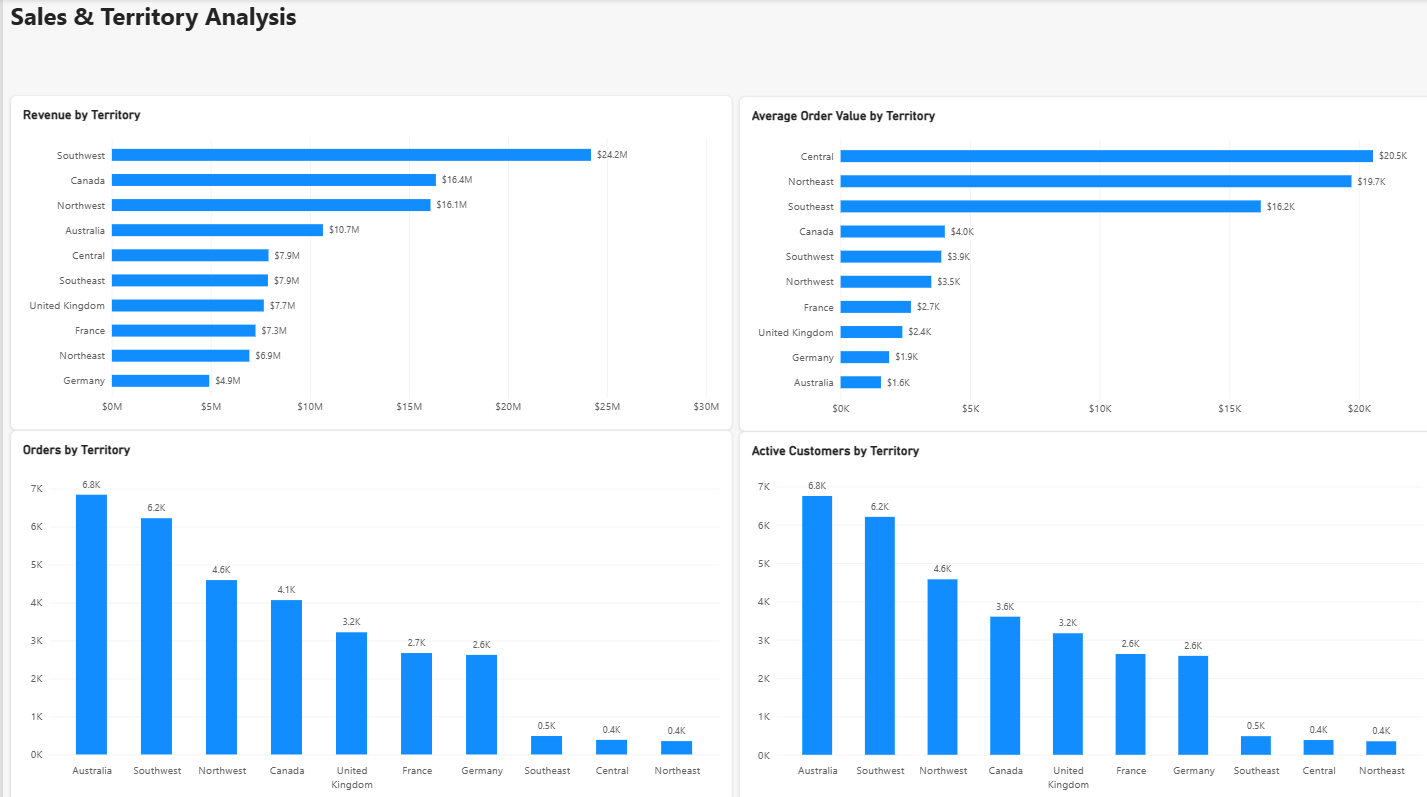

The dashboard page shown, as its layout file describes it:
{"tool":"powerbi","page":{"name":"Sales & Territory Analysis","canvas":[1920,1080],"ordinal":3},"visuals":[{"type":"textbox","box":[10.3,0,502.2,94.7],"z":0},{"type":"clusteredBarChart","title":"Revenue by Territory","fields":{"Category":["TerritoryPerformance.territory_name"],"Y":["Sum(TerritoryPerformance.total_revenue)"]},"box":[10.3,129.7,967.4,448.7],"z":1000},{"type":"clusteredColumnChart","title":"Orders by Territory","fields":{"Category":["TerritoryPerformance.territory_name"],"Y":["Sum(TerritoryPerformance.total_orders)"]},"box":[10.3,578.4,967.4,502.2],"z":2000},{"type":"clusteredBarChart","title":"Average Order Value by Territory","fields":{"Category":["OrderSummary.territory_name"],"Y":["OrderSummary.Average Order Value"]},"box":[987,130,933,449],"z":3000},{"type":"clusteredColumnChart","title":"Active Customers by Territory","fields":{"Category":["TerritoryPerformance.territory_name"],"Y":["Sum(TerritoryPerformance.active_customers)"]},"box":[987,579,933,501],"z":4000}]}

Visuals, with their boxes in screenshot pixels (x1, y1, x2, y2), scaled from the page's 1920x1080 canvas onto the 1427x797 screenshot:
textbox: [8,0,381,70]
"Revenue by Territory" clusteredBarChart: [8,96,727,427]
"Orders by Territory" clusteredColumnChart: [8,427,727,796]
"Average Order Value by Territory" clusteredBarChart: [734,96,1426,427]
"Active Customers by Territory" clusteredColumnChart: [734,427,1426,796]
